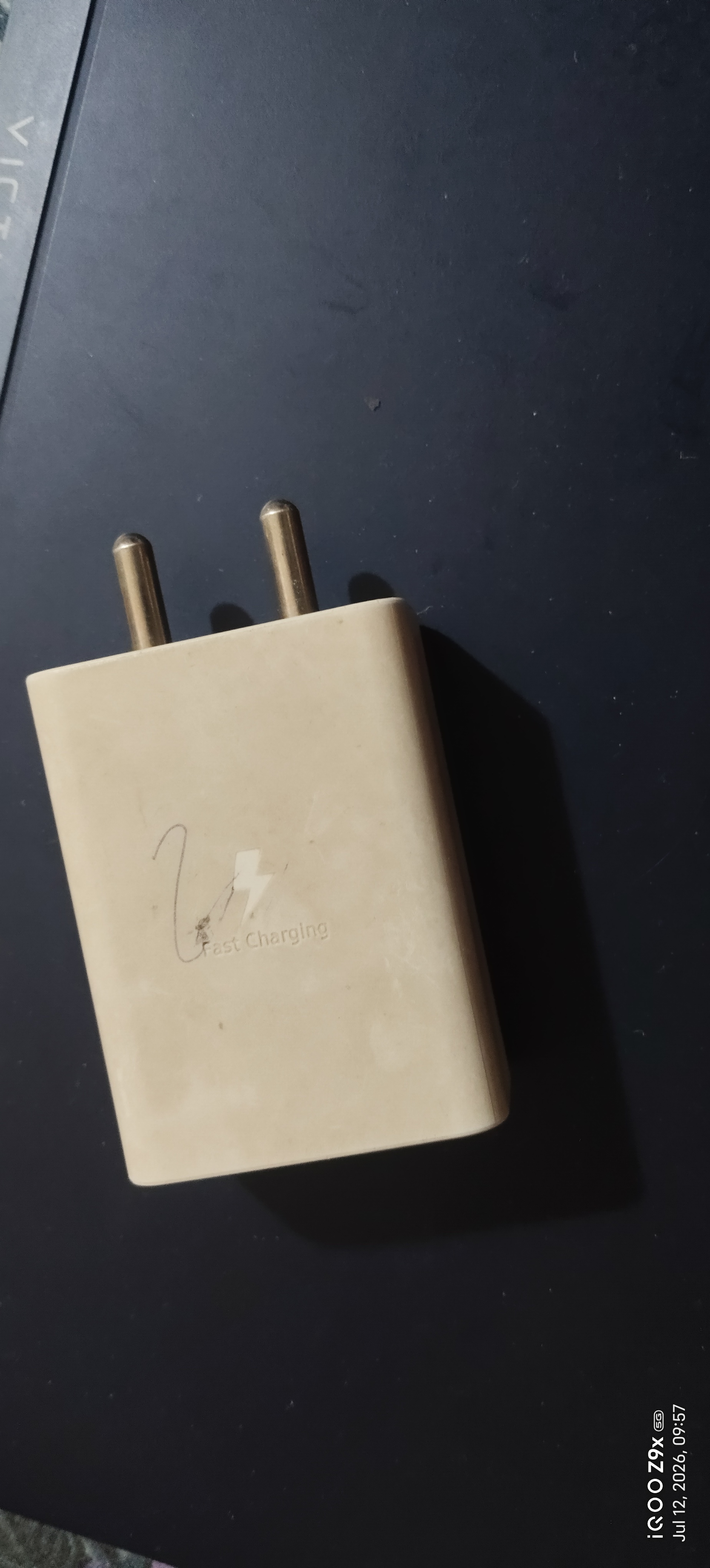charger: (12, 449, 594, 1281)
